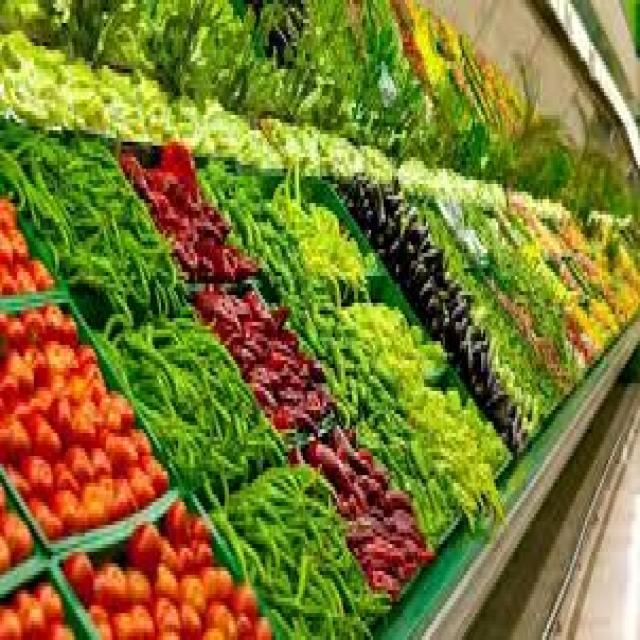organic waste: (42, 215, 176, 276), (210, 456, 322, 525), (280, 567, 386, 636), (222, 196, 312, 272), (80, 288, 202, 341), (261, 540, 356, 606), (222, 498, 335, 552), (242, 525, 343, 583), (0, 123, 102, 180), (511, 261, 566, 360), (193, 280, 288, 337), (286, 422, 369, 486), (225, 318, 318, 372), (244, 353, 332, 410), (293, 303, 375, 364), (154, 402, 260, 448), (119, 138, 197, 199), (437, 410, 502, 483), (333, 467, 409, 529), (15, 176, 127, 218), (144, 184, 231, 238), (138, 368, 239, 414), (346, 506, 430, 559), (195, 157, 261, 222), (115, 326, 216, 368), (344, 172, 416, 230), (375, 429, 441, 491), (265, 172, 335, 230), (339, 394, 418, 444), (454, 452, 504, 529), (296, 219, 368, 272), (168, 230, 258, 272), (316, 348, 390, 398), (254, 379, 320, 433), (398, 380, 468, 430), (273, 276, 337, 330), (401, 460, 447, 533), (341, 295, 407, 345), (445, 314, 494, 376), (373, 329, 443, 372), (540, 264, 587, 326), (392, 245, 449, 295), (420, 280, 472, 333), (178, 441, 267, 471), (369, 214, 432, 256), (513, 338, 551, 402), (496, 383, 532, 445), (464, 199, 500, 253), (489, 242, 530, 288), (0, 406, 30, 468), (471, 356, 508, 406), (93, 552, 127, 605), (12, 586, 48, 636), (464, 280, 500, 330), (362, 548, 400, 594), (445, 245, 477, 299), (21, 441, 51, 494), (78, 475, 112, 521), (2, 510, 32, 560), (62, 548, 91, 598), (104, 422, 133, 472), (10, 395, 44, 437), (51, 483, 85, 525), (125, 514, 155, 560), (106, 464, 136, 509), (582, 288, 614, 330), (98, 383, 132, 422), (202, 598, 236, 636), (136, 448, 165, 491), (68, 433, 91, 487), (562, 295, 582, 356), (51, 456, 80, 498), (30, 491, 57, 536), (574, 245, 602, 288), (496, 318, 521, 364), (428, 214, 454, 256), (555, 211, 583, 249), (123, 560, 148, 602), (70, 402, 95, 444), (515, 234, 542, 272), (165, 494, 189, 536), (34, 421, 59, 460), (155, 594, 178, 636), (148, 556, 176, 590), (108, 602, 136, 636), (176, 567, 199, 606), (49, 391, 70, 433), (127, 422, 148, 464), (178, 598, 201, 636), (598, 222, 618, 264), (82, 368, 104, 406), (2, 306, 23, 345), (91, 598, 112, 636), (214, 560, 233, 602), (606, 280, 627, 318), (130, 598, 150, 636), (25, 253, 49, 284), (13, 356, 32, 395), (154, 529, 173, 567), (568, 318, 587, 356), (416, 195, 436, 230), (542, 272, 562, 307), (188, 533, 206, 571), (42, 299, 62, 333), (32, 345, 49, 383), (13, 264, 36, 292), (26, 310, 44, 345), (176, 536, 191, 578), (51, 341, 78, 364), (8, 226, 28, 257), (623, 249, 638, 288), (57, 307, 74, 341), (0, 368, 17, 402), (91, 441, 108, 475), (233, 571, 248, 609), (0, 195, 13, 238), (64, 368, 82, 398), (0, 606, 17, 636), (51, 613, 72, 636), (186, 506, 202, 536), (197, 563, 212, 594), (235, 606, 250, 636), (250, 610, 267, 636), (78, 341, 94, 364), (4, 341, 17, 368), (0, 268, 13, 292), (0, 482, 8, 521), (0, 528, 8, 567), (623, 218, 636, 242), (0, 229, 8, 264)
